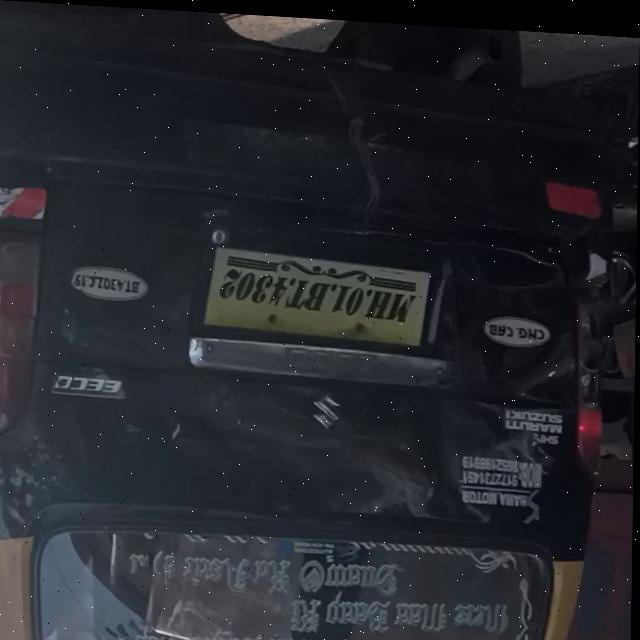plate: (200, 230, 435, 352)
